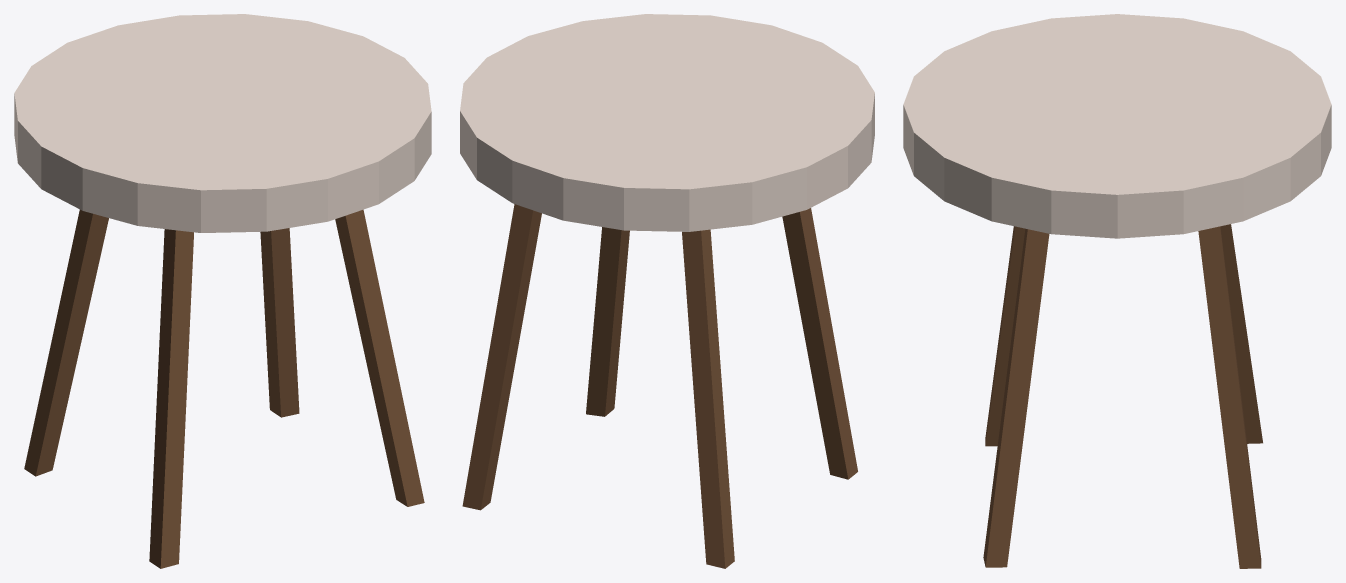
File: Table_17.fbx
The picture shows the model from 3 angles, left to right: view 1: azimuth 30°, elevation 25°; view 2: azimuth 150°, elevation 25°; view 3: azimuth 270°, elevation 25°; orthographic projection. The views are drawn at different scales.
Visible parts, largest first — view 1: Table_17; view 2: Table_17; view 3: Table_17.
Part boxes in pixels (left/top/right/bottom): Table_17: left=14, top=14, right=431, bottom=568; Table_17: left=460, top=14, right=874, bottom=568; Table_17: left=903, top=14, right=1331, bottom=568.
Bounding box in the file's own units: 74.29 × 74.29 × 75.94.
